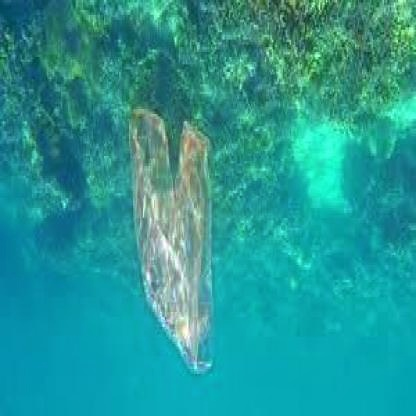pbag: (126, 101, 221, 379)
